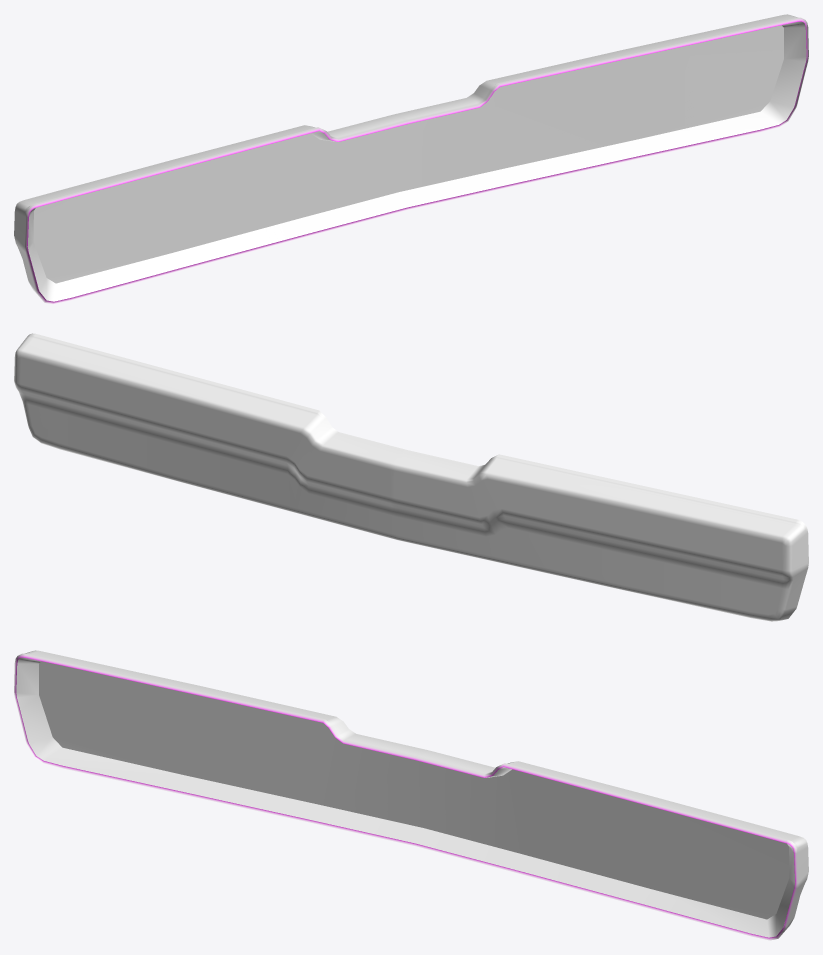
Rendered from Car_Buick_GrandNational_1987_BumperR_SetB.fbx.
The picture shows the model from 3 angles, top to bottom: view 1: azimuth 30°, elevation 25°; view 2: azimuth 150°, elevation 25°; view 3: azimuth 330°, elevation 25°; orthographic projection.
Parts seen in each view (by area): view 1: BumperR 6; view 2: BumperR 6; view 3: BumperR 6.
Boxes of the visible parts, x1,y1,x2,y2 form: BumperR 6: (14, 14, 808, 304); BumperR 6: (14, 333, 808, 621); BumperR 6: (14, 650, 808, 940).
Bounding box in the file's own units: 1.74 × 0.2251 × 0.0966.
